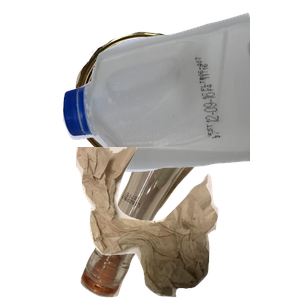glass: (78, 128, 298, 300)
metal: (71, 29, 276, 193)
plastic: (60, 10, 300, 175)
trash: (73, 147, 300, 300)
